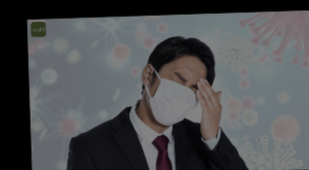with_mask: (146, 70, 203, 126)
